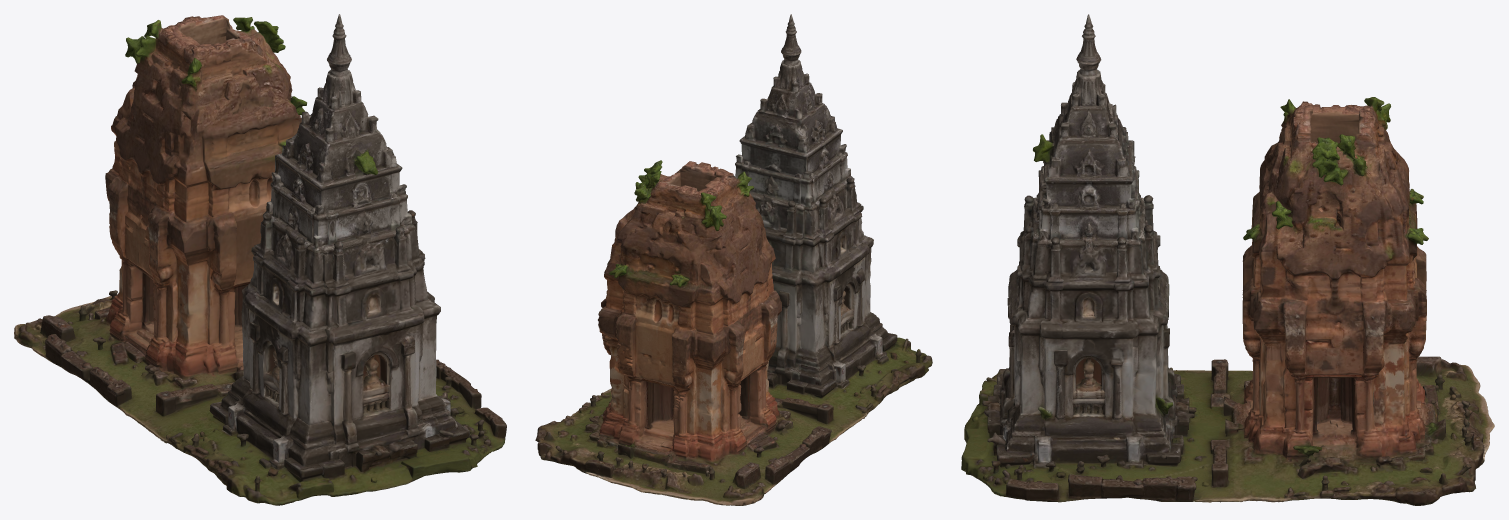
Rendered from temple3.glb.
3 views of the same model, side by side, from view 1: azimuth 30°, elevation 25°; view 2: azimuth 150°, elevation 25°; view 3: azimuth 270°, elevation 25° (orthographic). The views are drawn at different scales.
Parts seen in each view (by area): view 1: tripo_node_847b07fc-4329-4876-891d-42d78ac539e7; view 2: tripo_node_847b07fc-4329-4876-891d-42d78ac539e7; view 3: tripo_node_847b07fc-4329-4876-891d-42d78ac539e7.
Part boxes in pixels (x1,y1,x2,y2): tripo_node_847b07fc-4329-4876-891d-42d78ac539e7: (14,14,506,505); tripo_node_847b07fc-4329-4876-891d-42d78ac539e7: (535,14,932,505); tripo_node_847b07fc-4329-4876-891d-42d78ac539e7: (961,14,1494,505).
Size of the model in its own units: 0.5977 by 0.8617 by 0.982.
1 material, 1 textured.
